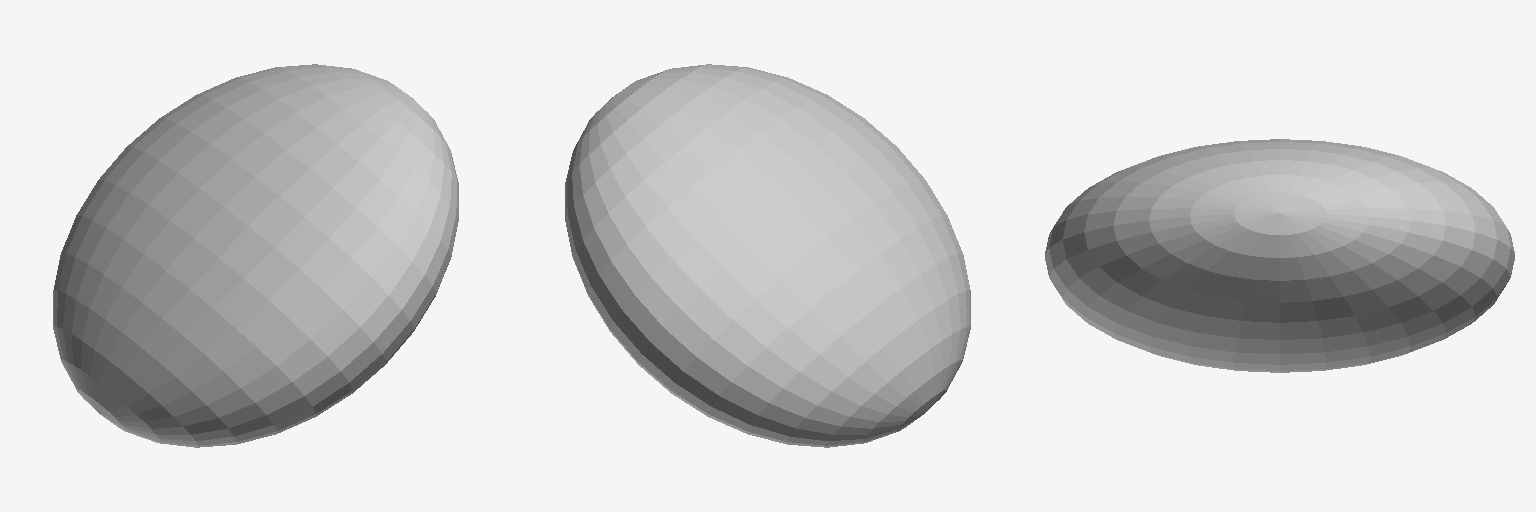
File: bulb.obj
3 views of the same model, side by side, from view 1: azimuth 30°, elevation 25°; view 2: azimuth 150°, elevation 25°; view 3: azimuth 270°, elevation 25° (orthographic).
Parts seen in each view (by area): view 1: Sphere.006; view 2: Sphere.006; view 3: Sphere.006.
Boxes of the visible parts, x1,y1,x2,y2 form: Sphere.006: [53, 64, 458, 447]; Sphere.006: [565, 64, 970, 447]; Sphere.006: [1045, 139, 1514, 372].
Size of the model in its own units: 1.81 by 1.5 by 2.21.